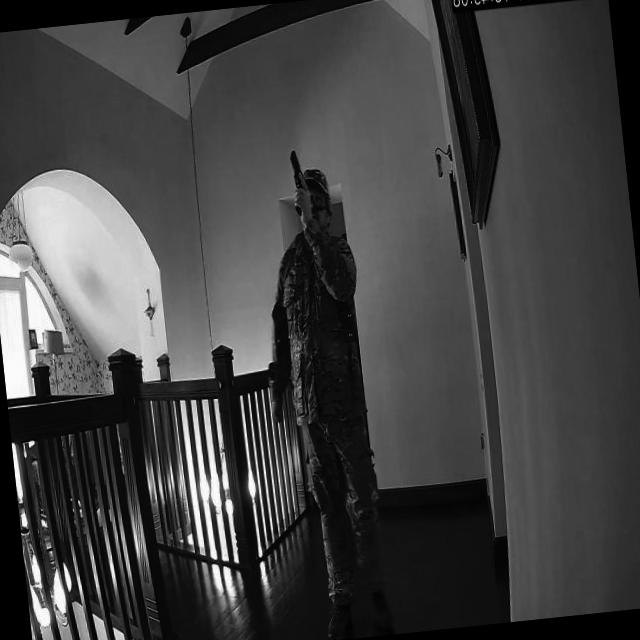gun: (286, 145, 312, 218)
person with a gun: (254, 159, 394, 640)
